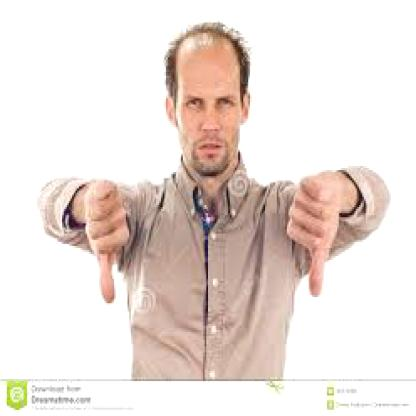Thumbs Down: (283, 172, 336, 298), (82, 178, 128, 307)
